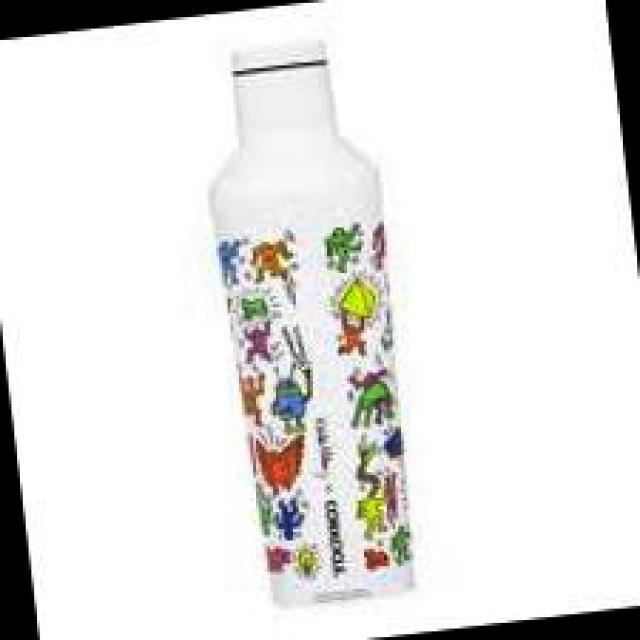bottle: (193, 33, 424, 607)
